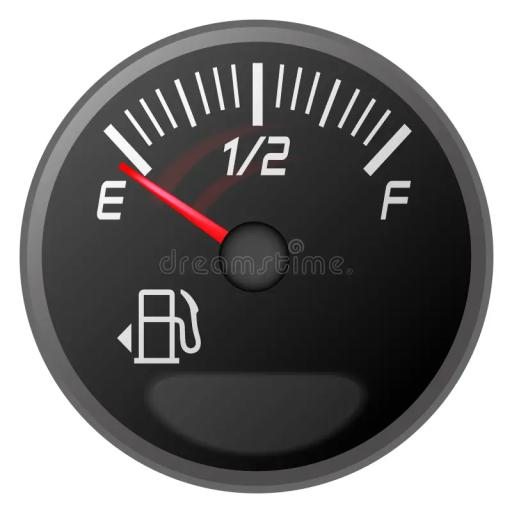empty: (94, 179, 126, 223)
fuel_icon: (132, 286, 202, 368)
full: (380, 177, 413, 222)
guage_area: (17, 18, 493, 492)
needle_center: (211, 212, 290, 294)
needle_tip: (115, 158, 162, 180)
